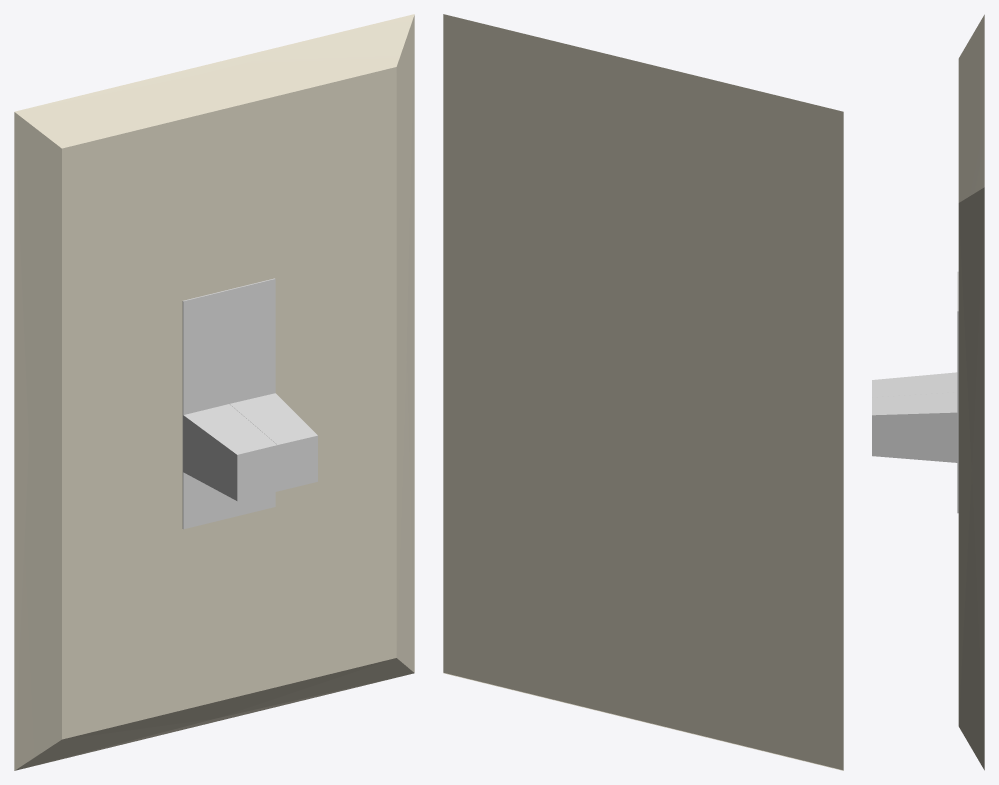
The model's file is LightSwitch_LowPoly_Textured.fbx.
3 views of the same model, side by side, from view 1: azimuth 30°, elevation 25°; view 2: azimuth 150°, elevation 25°; view 3: azimuth 270°, elevation 25° (orthographic). The views are drawn at different scales.
Visible parts, largest first — view 1: Light_Switcher; view 2: Light_Switcher; view 3: Light_Switcher.
Boxes of the visible parts, x1=… form: Light_Switcher: x1=14, y1=14, x2=414, y2=770; Light_Switcher: x1=443, y1=14, x2=843, y2=770; Light_Switcher: x1=872, y1=14, x2=984, y2=770.
Size of the model in its own units: 279 by 439 by 76.9.
